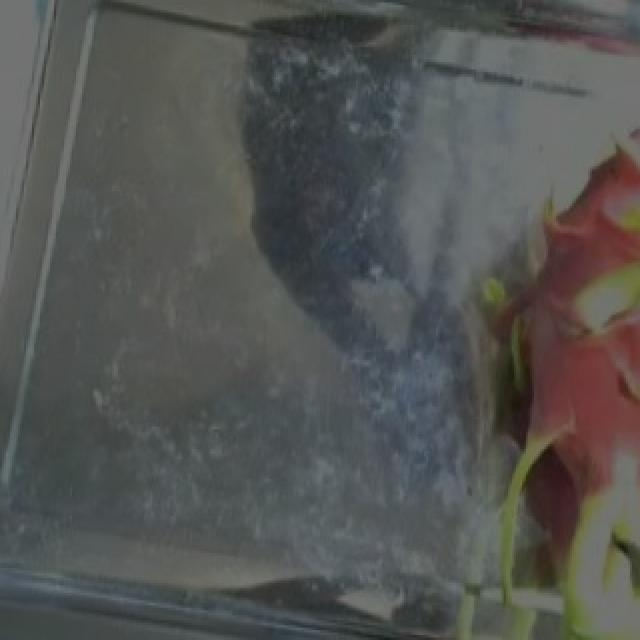fruit: (358, 223, 640, 640)
